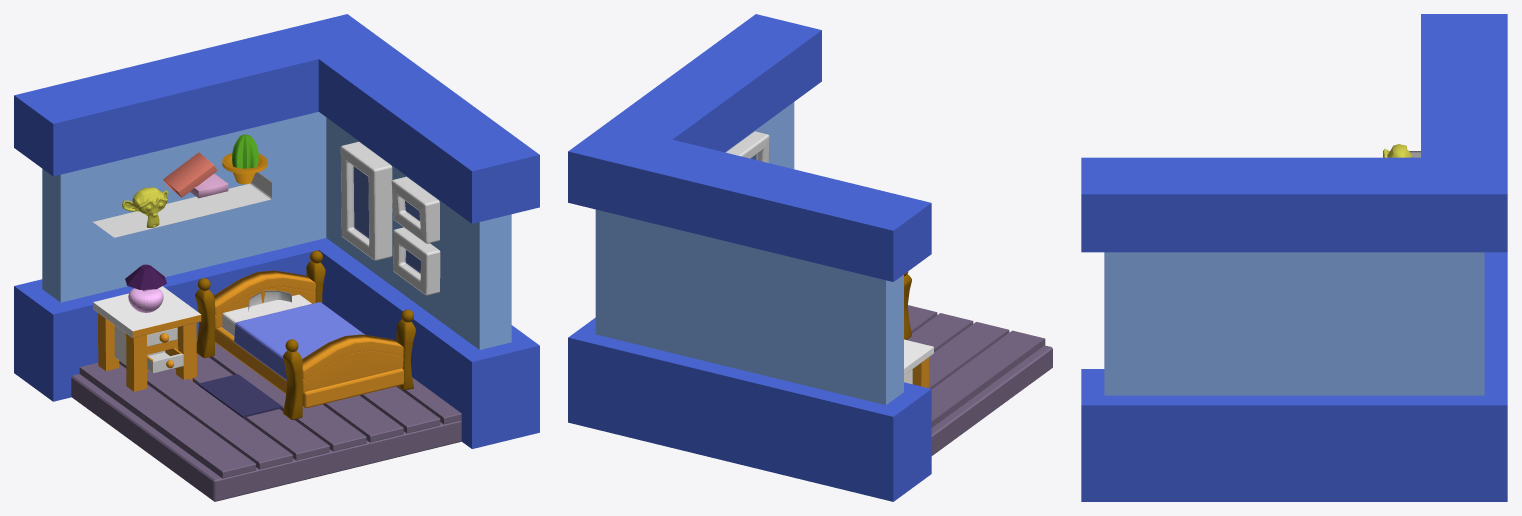
The model's file is WithModifier1.glb.
The picture shows the model from 3 angles, left to right: view 1: azimuth 30°, elevation 25°; view 2: azimuth 150°, elevation 25°; view 3: azimuth 270°, elevation 25°; orthographic projection. The views are drawn at different scales.
Visible parts, largest first — view 1: Cube, Plane.001, Cube.001, Plane, Plane.011, Plane.009, Plane.003, Cube.002, Plane.002, Plane.004, Plane.012, Plane.005 (+5 smaller); view 2: Cube, Plane.001, Plane, Plane.011, Cube.001; view 3: Cube.
Part boxes in pixels (left/top/right/bottom): Cube: left=14, top=14, right=539, bottom=448; Plane.001: left=79, top=338, right=461, bottom=478; Cube.001: left=340, top=141, right=440, bottom=295; Plane: left=71, top=374, right=461, bottom=501; Plane.011: left=93, top=264, right=201, bottom=391; Plane.009: left=222, top=294, right=364, bottom=380; Plane.003: left=302, top=334, right=403, bottom=391; Cube.002: left=92, top=172, right=271, bottom=237; Plane.002: left=215, top=327, right=403, bottom=408; Plane.004: left=213, top=270, right=315, bottom=327; Plane.012: left=198, top=374, right=282, bottom=417; Plane.005: left=283, top=339, right=302, bottom=419; Cube: left=568, top=14, right=931, bottom=501; Plane.001: left=907, top=305, right=1045, bottom=427; Plane: left=931, top=345, right=1052, bottom=455; Plane.011: left=904, top=339, right=933, bottom=387; Cube.001: left=726, top=131, right=769, bottom=162; Cube: left=1081, top=14, right=1507, bottom=501.
Size of what is drawn, in the model's own units: 2.51 by 2.01 by 2.51.
